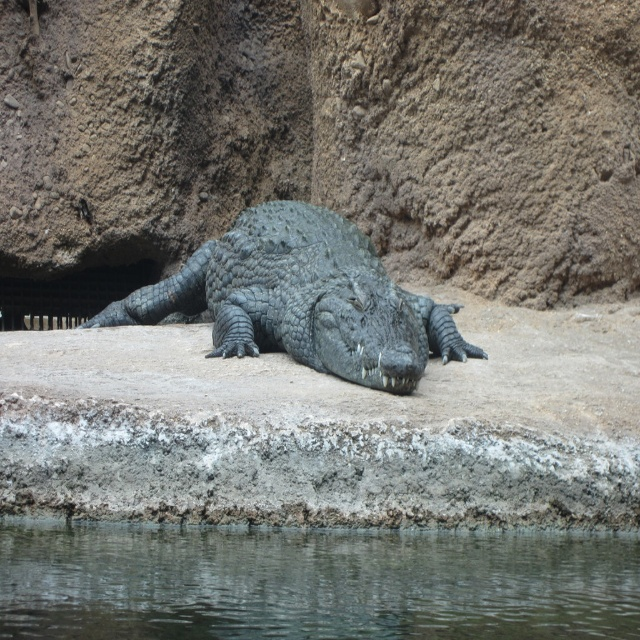Crocodile: (70, 200, 488, 396)
